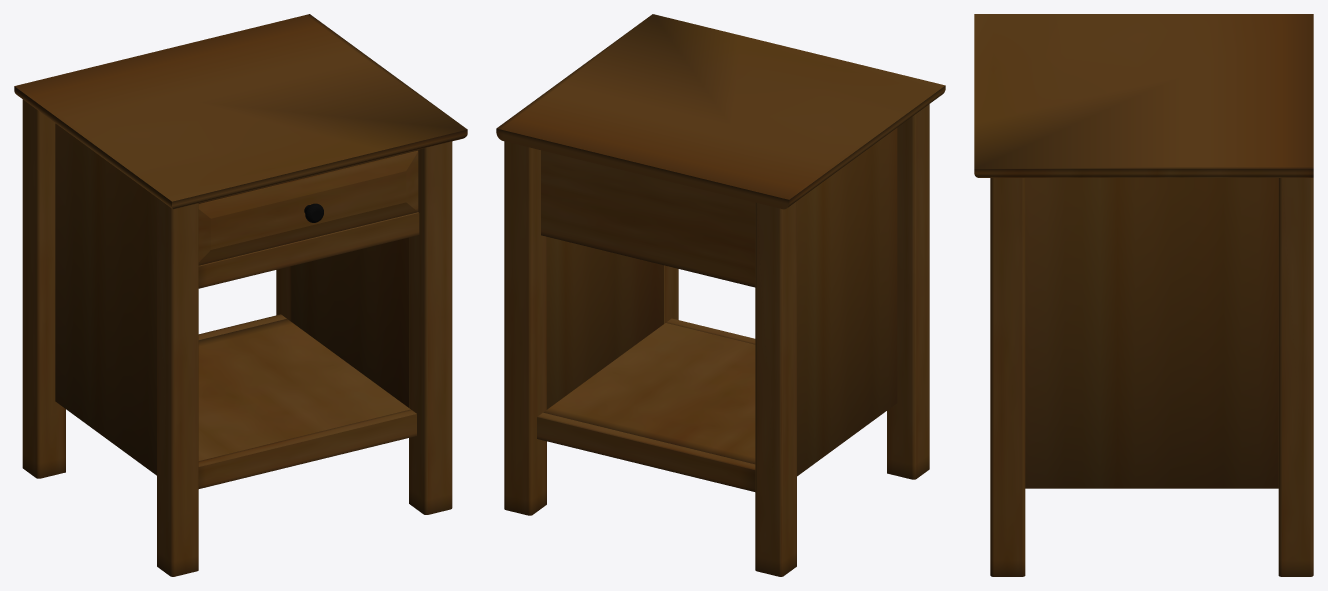
3 views of the same model, side by side, from view 1: azimuth 30°, elevation 25°; view 2: azimuth 150°, elevation 25°; view 3: azimuth 270°, elevation 25° (orthographic). The views are drawn at different scales.
Visible parts, largest first — view 1: static_node, moving_node; view 2: static_node, moving_node; view 3: static_node.
Part boxes in pixels (x1,y1,x2,y2): static_node: [14, 14, 467, 576]; moving_node: [198, 149, 419, 288]; static_node: [496, 14, 945, 576]; moving_node: [541, 150, 755, 287]; static_node: [974, 14, 1313, 576].
Bounding box in the file's own units: 0.9671 × 1.2 × 0.8948.
Materials: 1 (1 with a texture image).
